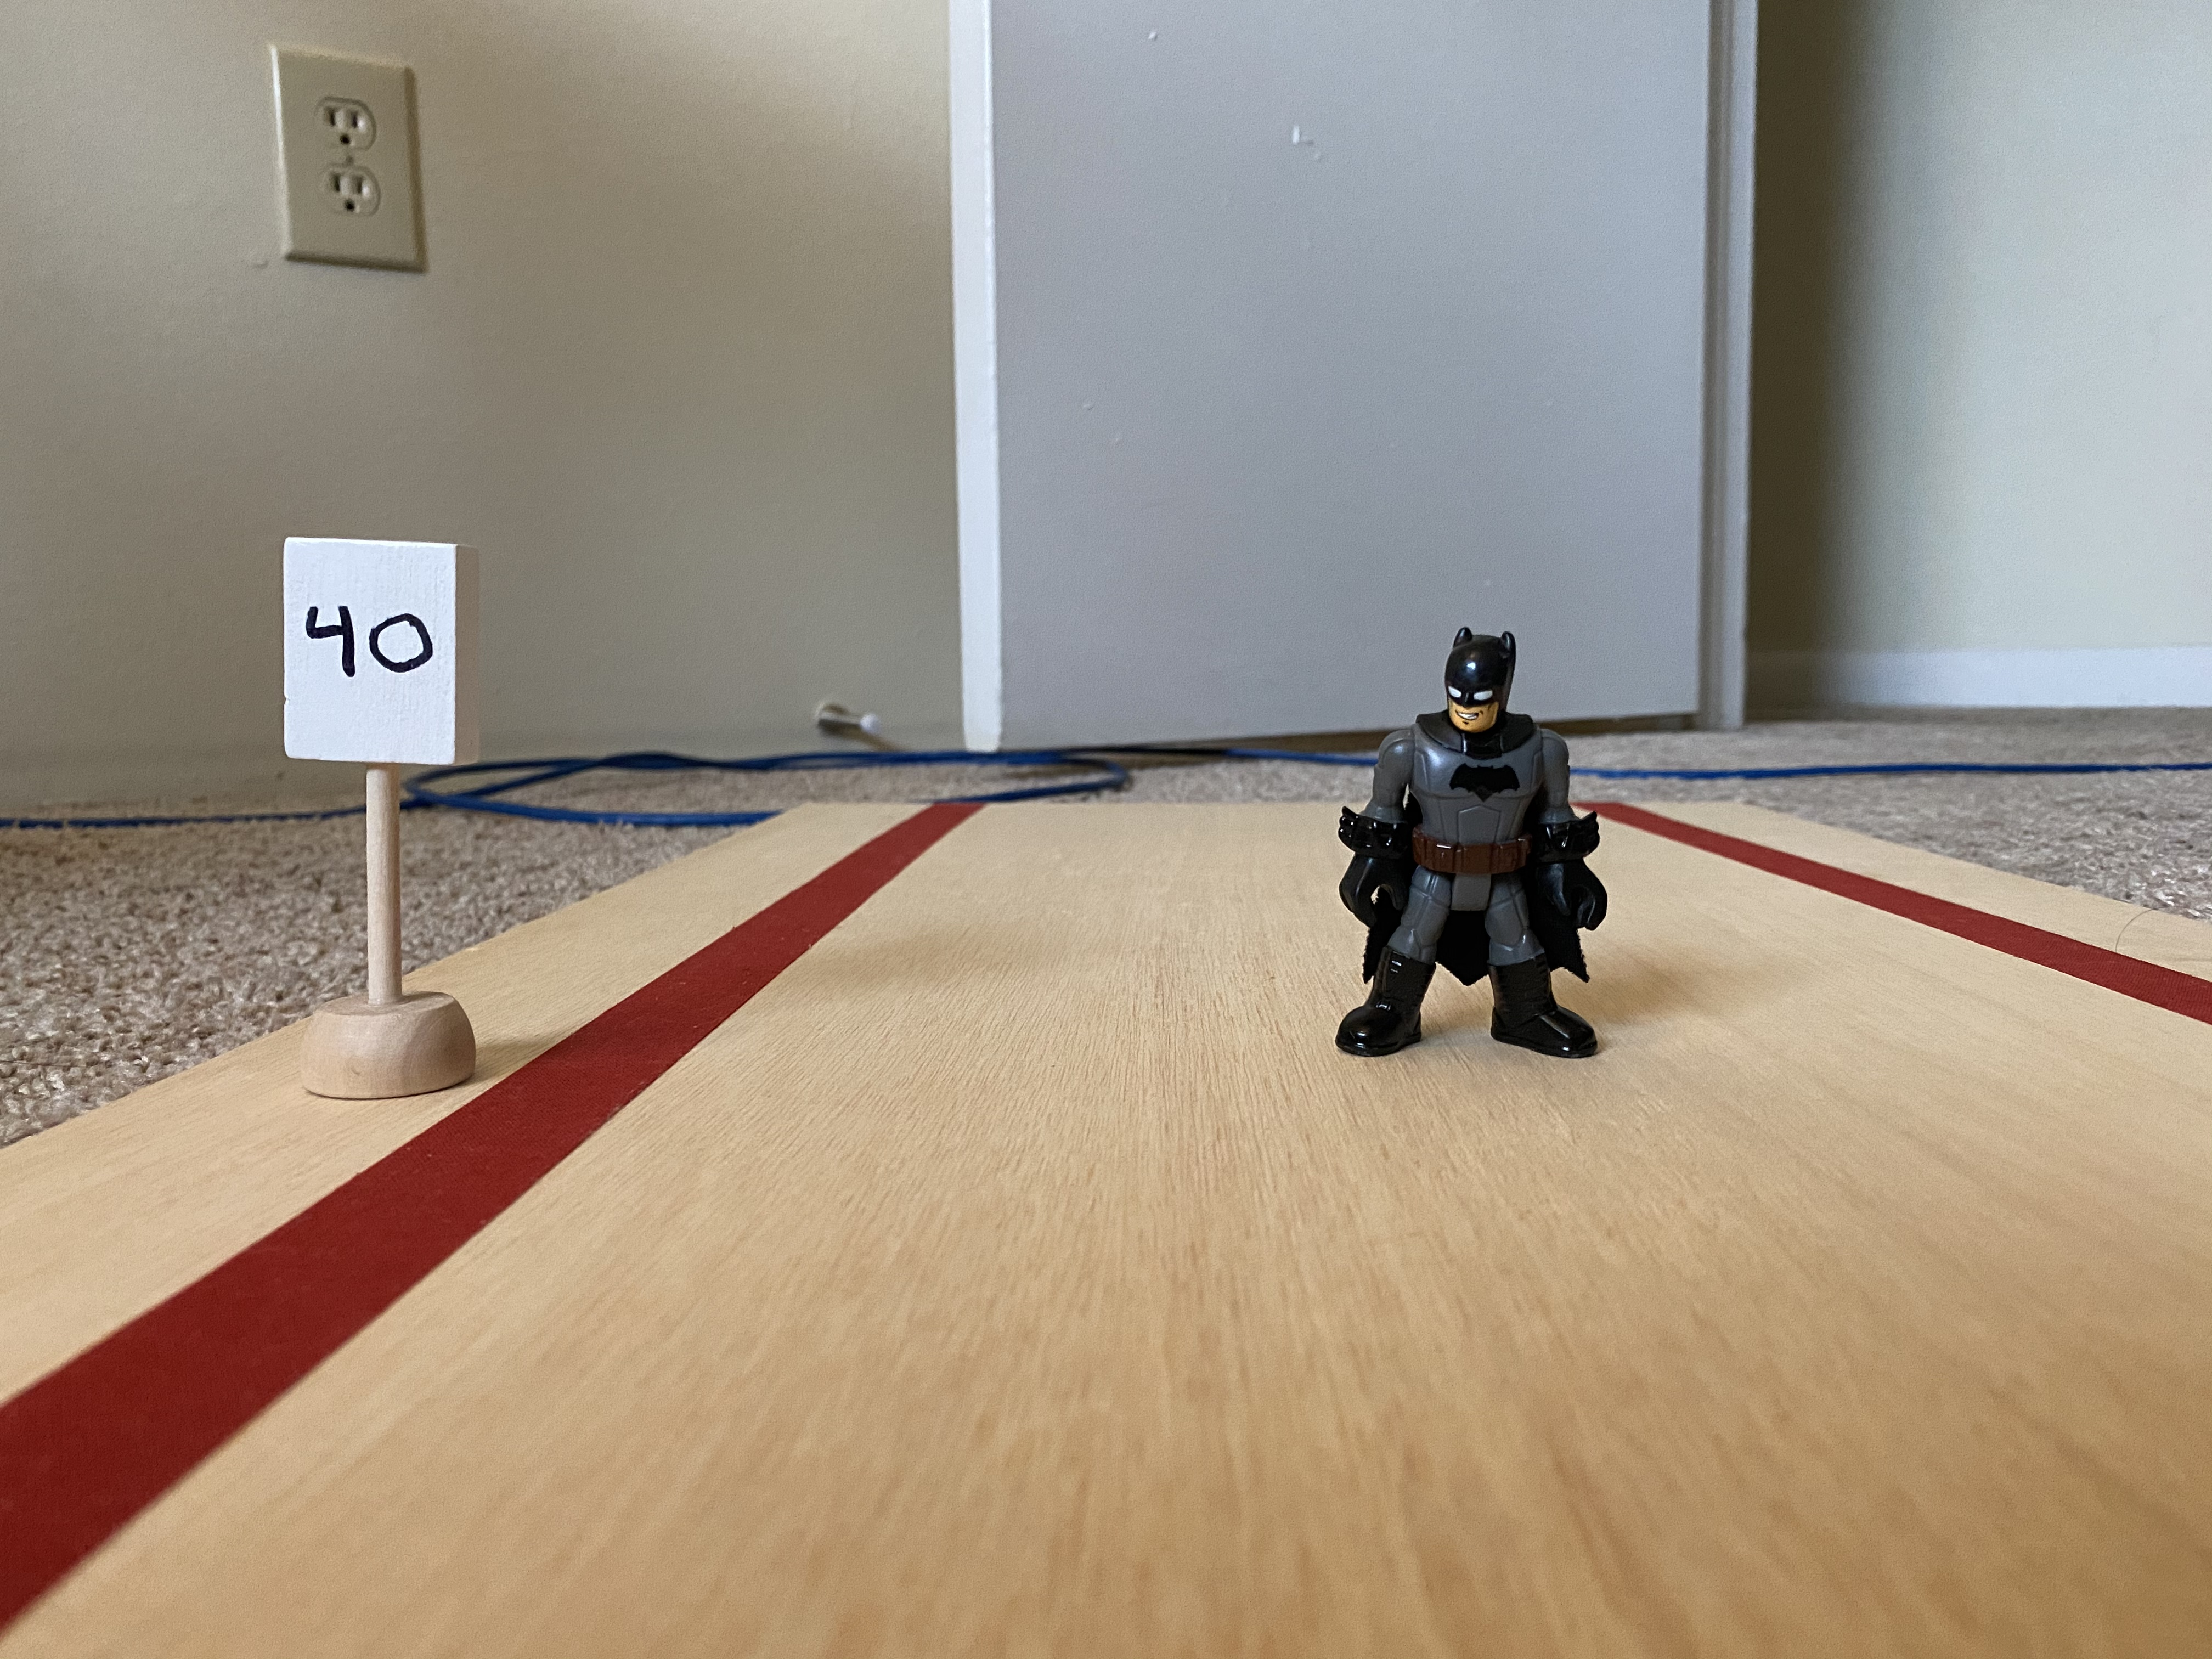Person: (1325, 614, 1613, 1058)
Speed Limit 40: (283, 537, 461, 765)
